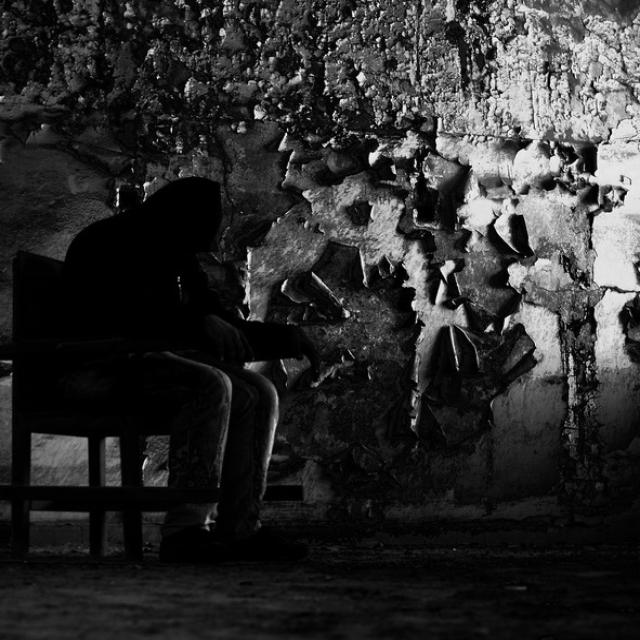People: (103, 173, 296, 557)
chair: (6, 234, 180, 584)
